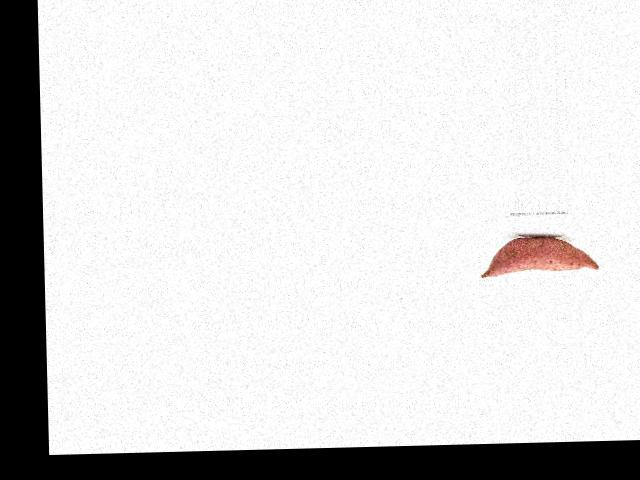sweet_potato: (479, 234, 600, 284)
